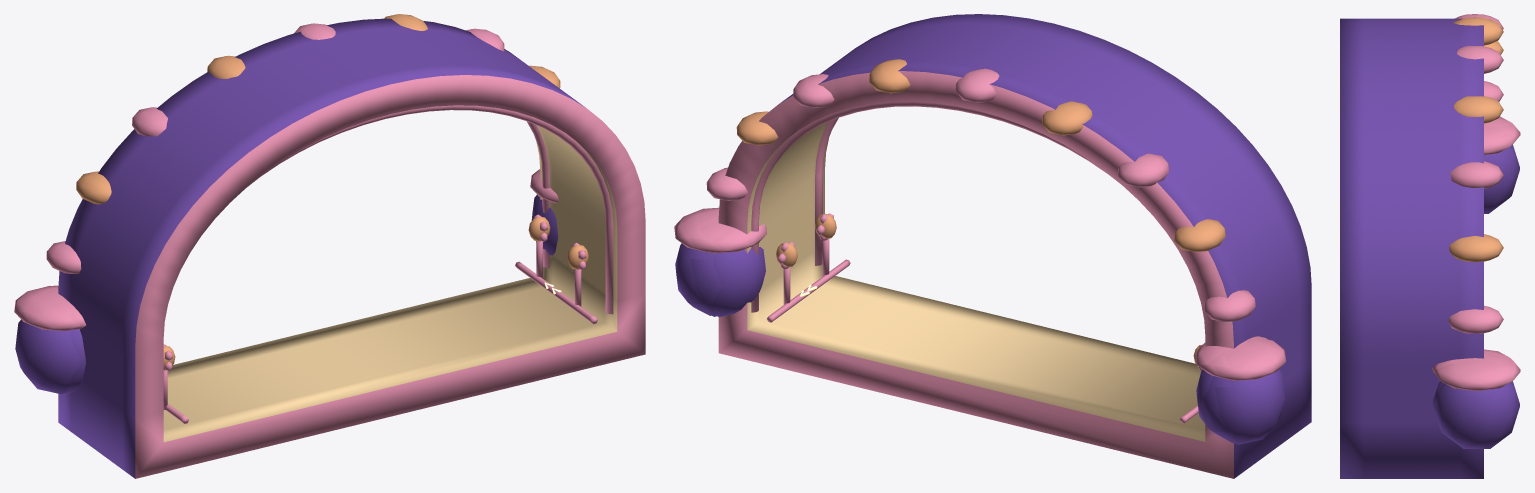
Rendered from portal_exit.glb.
3 renders of one model, left to right at view 1: azimuth 30°, elevation 25°; view 2: azimuth 150°, elevation 25°; view 3: azimuth 270°, elevation 25°, orthographic. The views are drawn at different scales.
Visible parts, largest first — view 1: TunnelGeometry; view 2: TunnelGeometry; view 3: TunnelGeometry.
Boxes of the visible parts, box(x1,y1,x2,y2) form: TunnelGeometry: box(14, 14, 645, 478); TunnelGeometry: box(674, 14, 1311, 478); TunnelGeometry: box(1340, 14, 1520, 478).
Size of the model in its own units: 17.73 by 9.62 by 5.02.
Materials: 5 (2 with a texture image).
